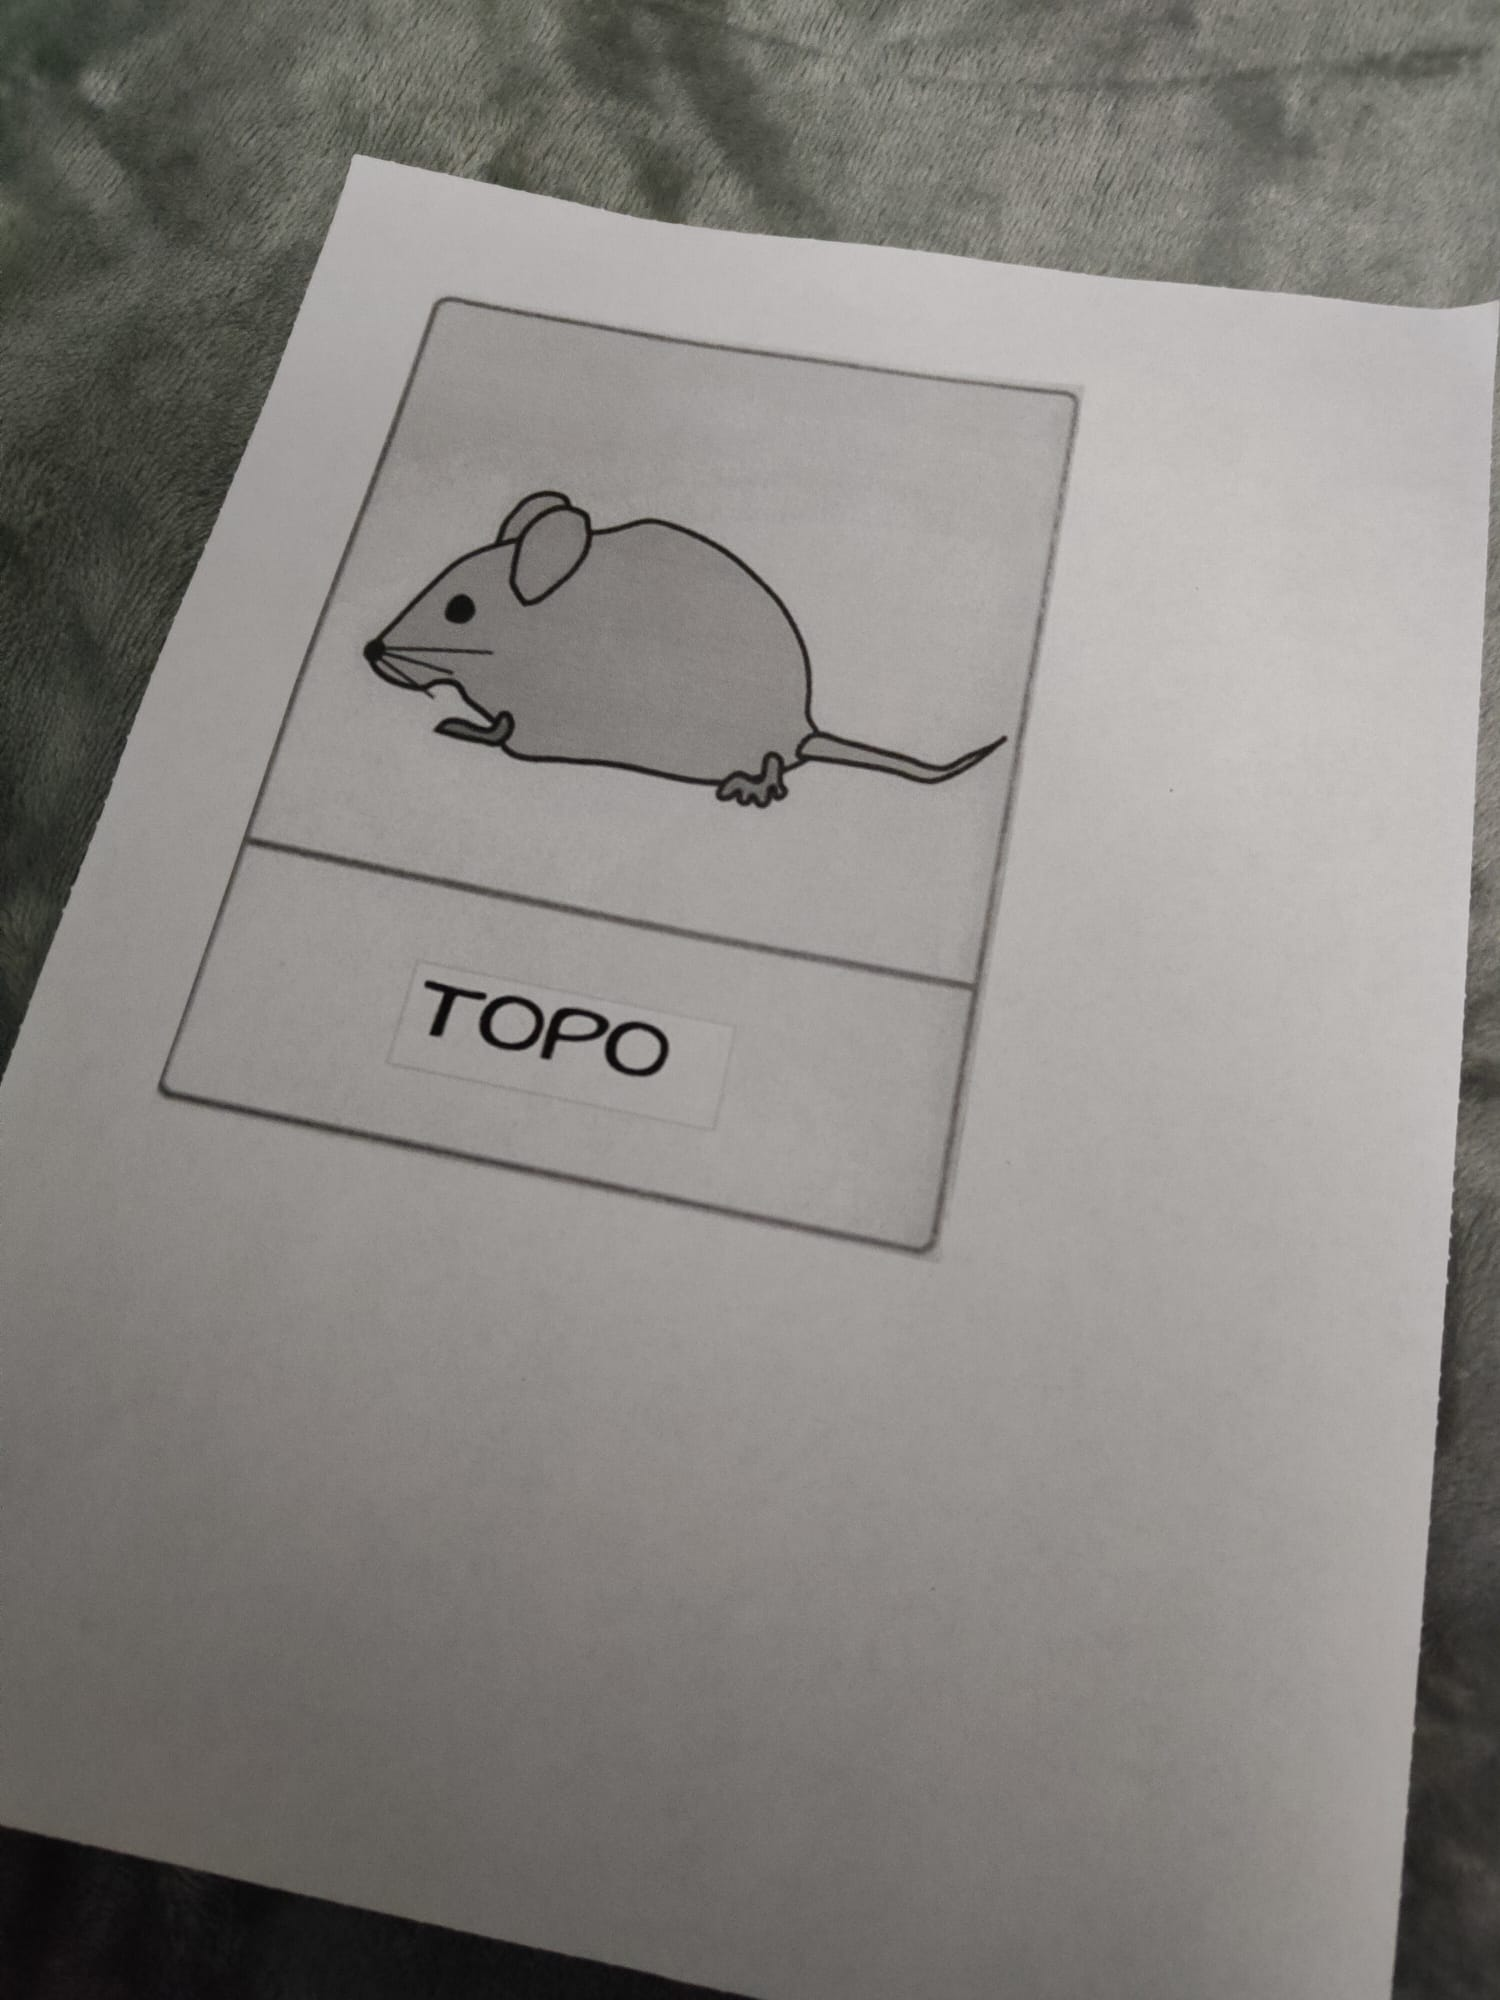topo: (327, 312, 1029, 1203)
